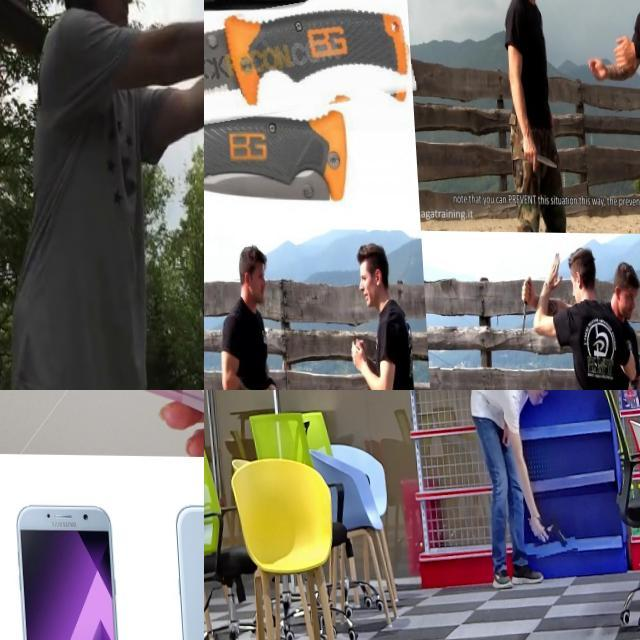-: (204, 0, 413, 130), (510, 271, 529, 337), (515, 140, 555, 171)
gun-knife-thesis - v11 Yolov5 augmented: (523, 512, 572, 556)
